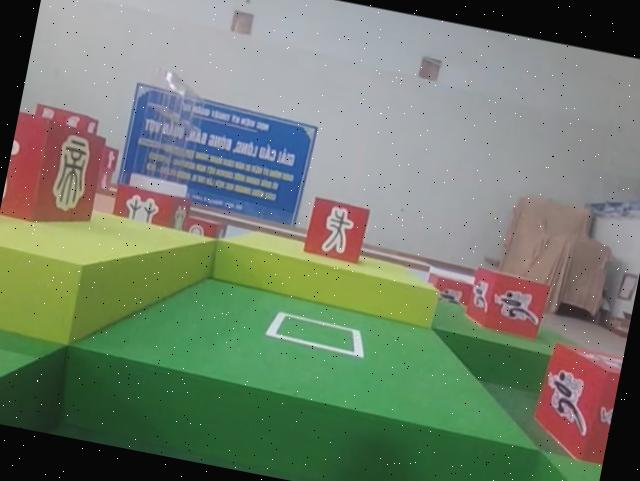R1: (530, 338, 625, 467), (464, 263, 556, 341)
R2 Fake: (0, 105, 111, 230), (303, 198, 370, 261)
